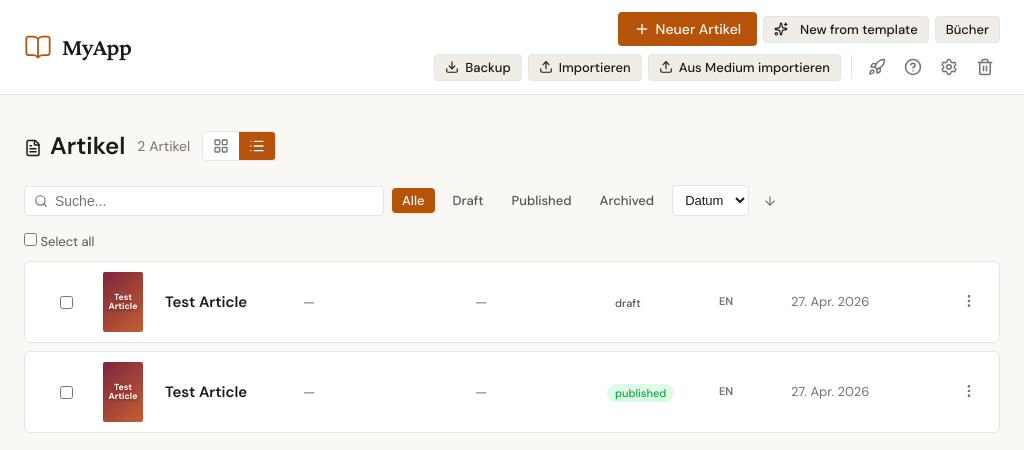
Test: ArticleList › status filter narrows the rendered list (client-side)
Expected: the list item with test id "article-list-row-draft-1" is shown, [24, 261, 1000, 343]
Click the button with test id "article-list-filter-published" at (542, 201), box [502, 188, 582, 213]
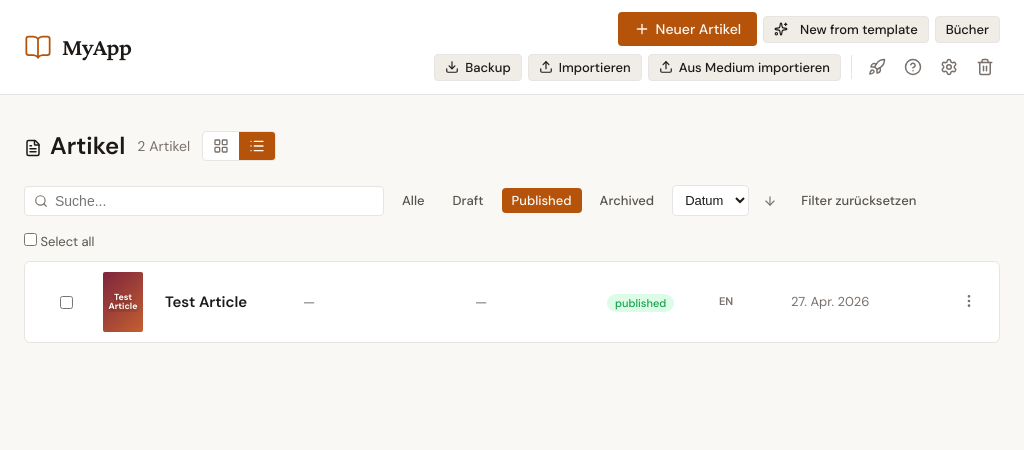
Expected: the list item with test id "article-list-row-pub-1" is shown, [24, 261, 1000, 343]
Now the list item with test id "article-list-row-draft-1" is gone
